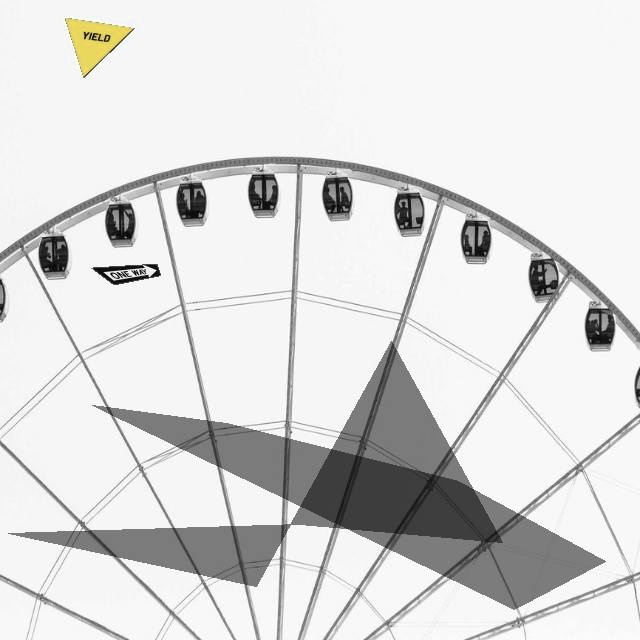ONE_WAY_ right: (90, 263, 161, 285)
YIELD: (64, 17, 135, 78)
